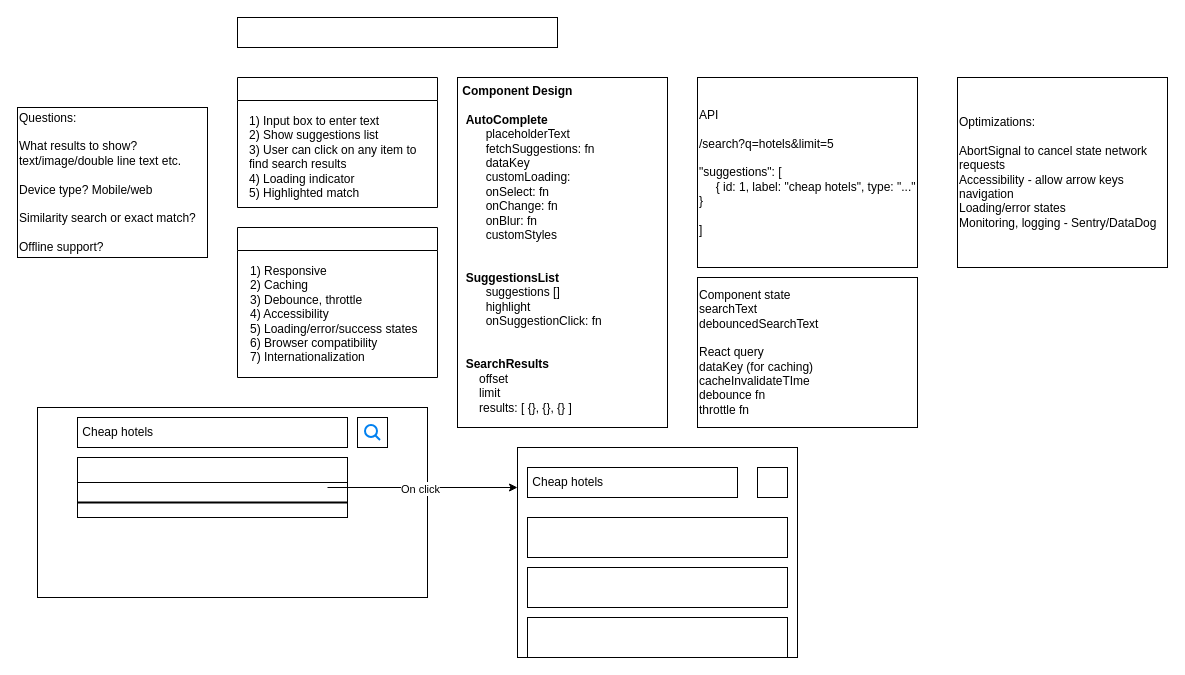
Some shapes in this 1185 by 675 pixel diagram are drawn without their labels. The shapes that lost their labels are listed below. From the top down, each one's box as (x1, y1, x2, y2) in pixels, then its label:
(236, 16, 558, 48): Design Autocomplete Frontend System Design
(236, 76, 438, 208): Functional Requirements
(236, 226, 438, 378): Non-functional Requirements
